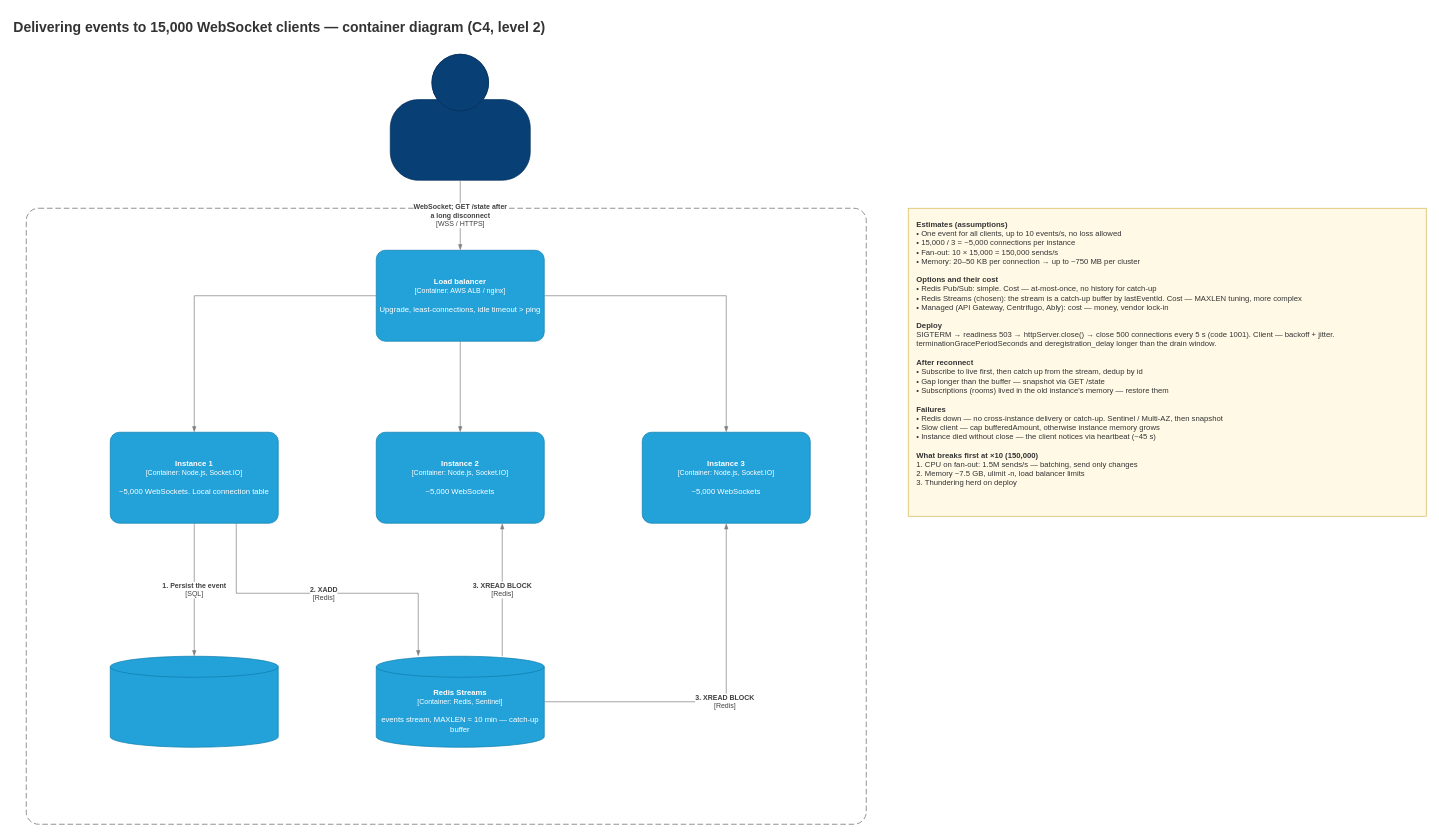
This 1439x837 diagram has some shape labels left out. The shapes that lost their labels are listed below. From the top down, each one's box as (x1, y1, x2, y2) in pixels, then its label:
(390, 54, 530, 180): 15,000 clients [Person] Browser or mobile app
(26, 208, 866, 824): Our system [Software System]
(110, 656, 278, 747): PostgreSQL [Container: PostgreSQL] Source of truth, snapshot for GET /state
